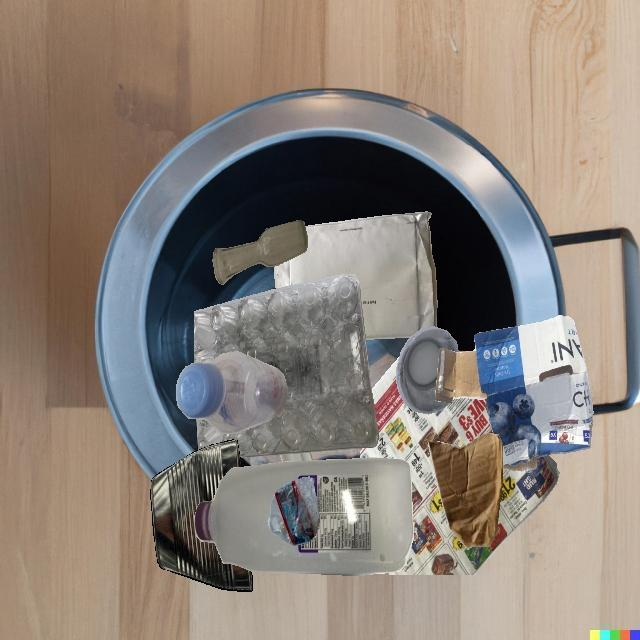cardboard: (435, 315, 593, 471), (428, 433, 502, 549)
glass: (213, 220, 308, 285)
metal: (150, 439, 253, 592)
paper: (360, 356, 559, 575), (274, 212, 437, 339), (368, 365, 369, 367)
plastic: (194, 274, 379, 458), (195, 458, 413, 575), (176, 351, 288, 434), (396, 326, 459, 414), (267, 477, 320, 545), (280, 452, 312, 462)
